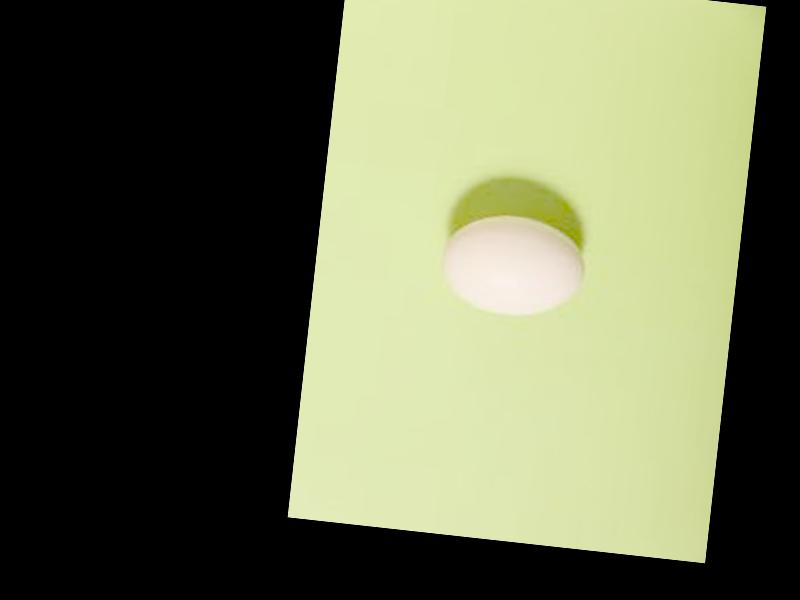Eggs: (438, 208, 592, 319)
